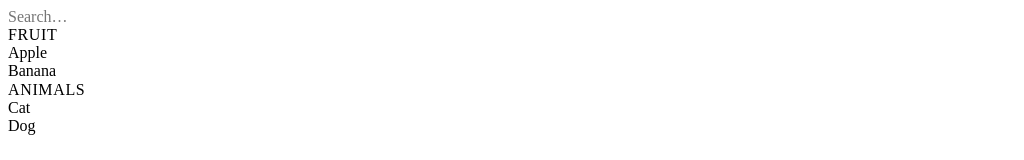
Test case: Spotlight › filtering › typing in the input hides non-matching items
The image size is (1024, 160).
Type "cat" into the dropdown at (512, 17), box [8,8,1016,26]
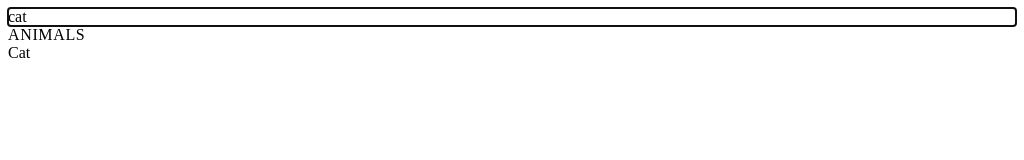
Expected: the option "Cat" is shown, [8,44,30,61]
Expected: the option "Apple" is gone
Expected: the option "Banana" is gone
